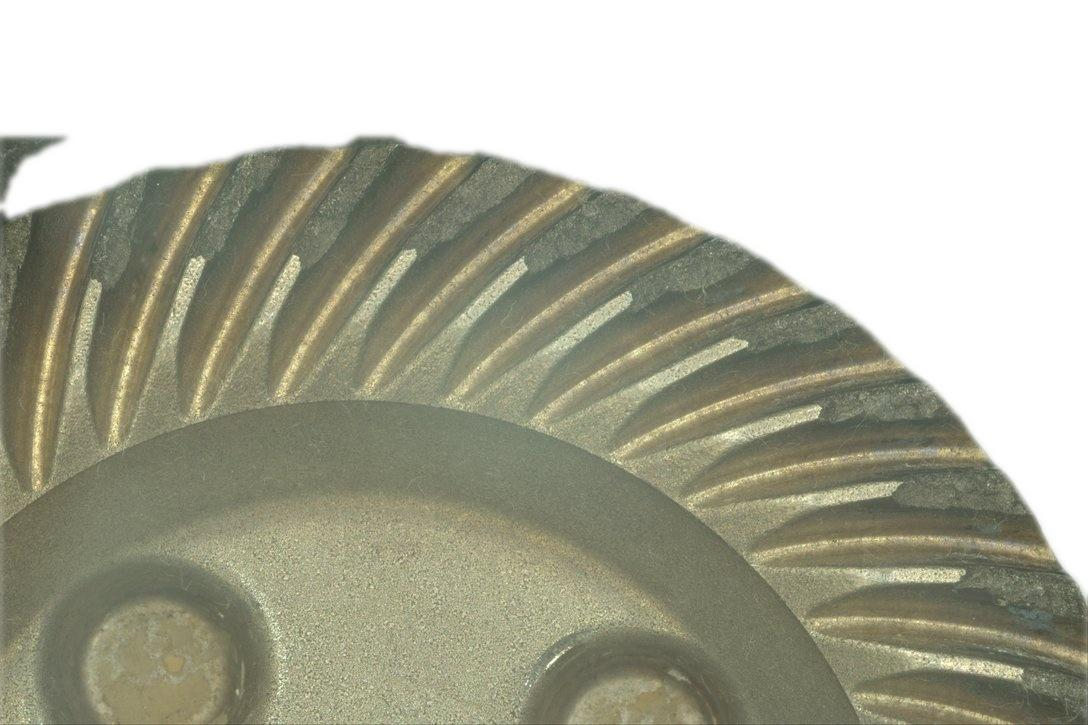defect: (408, 162, 530, 254), (301, 150, 390, 266), (525, 194, 646, 271), (633, 239, 752, 308), (198, 154, 275, 257), (961, 568, 1083, 614), (741, 304, 855, 353), (893, 471, 1026, 513), (93, 180, 145, 282), (821, 382, 946, 421), (0, 218, 28, 342), (1025, 670, 1087, 722)
